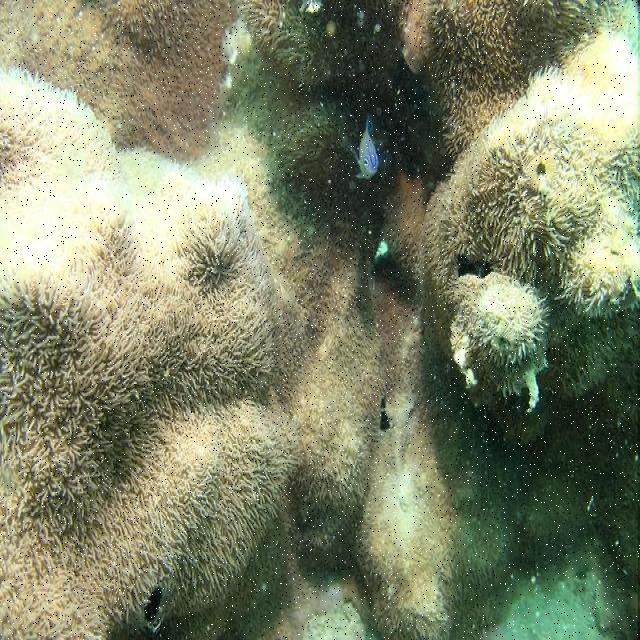fish: (350, 112, 379, 178)
reefs: (0, 13, 639, 639), (1, 0, 639, 163)
